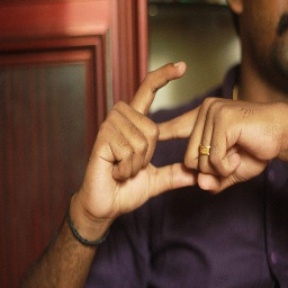E: (110, 59, 228, 202)
